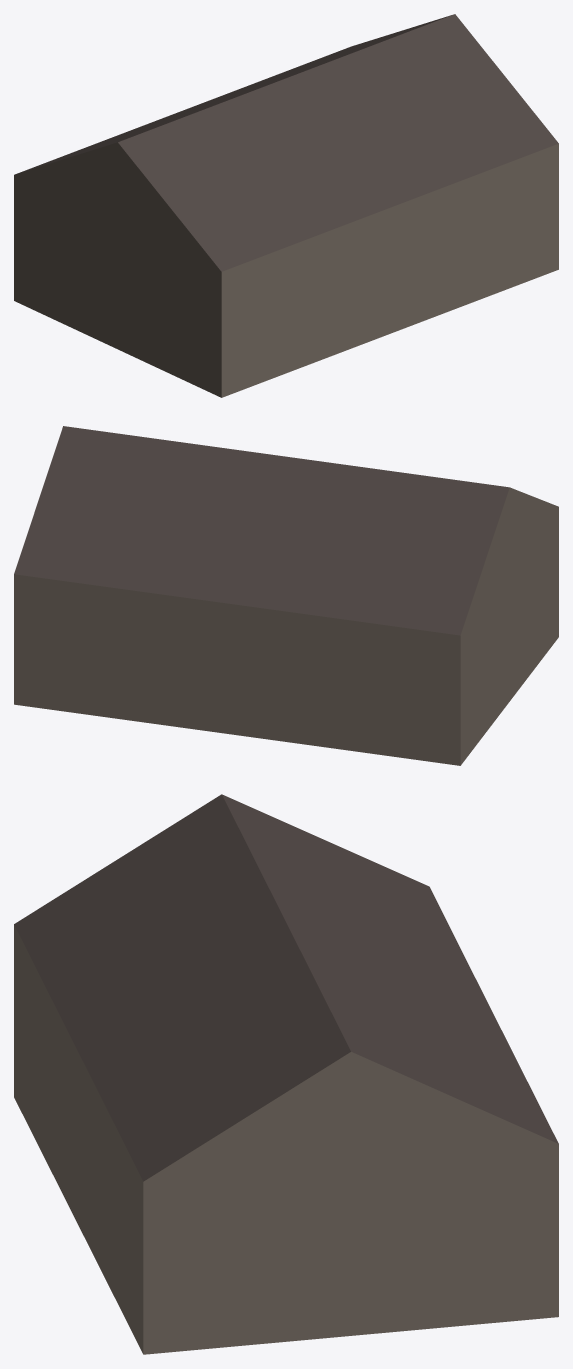
3 renders of one model, top to bottom at view 1: azimuth 30°, elevation 25°; view 2: azimuth 150°, elevation 25°; view 3: azimuth 270°, elevation 25°, orthographic. The views are drawn at different scales.
Parts seen in each view (by area): view 1: HP-w1376988859; view 2: HP-w1376988859; view 3: HP-w1376988859.
Boxes of the visible parts, bbox=[...] form: HP-w1376988859: bbox=[14, 14, 558, 397]; HP-w1376988859: bbox=[14, 426, 558, 765]; HP-w1376988859: bbox=[14, 794, 558, 1354].
Size of the model in its own units: 21.95 by 9.86 by 17.13.
